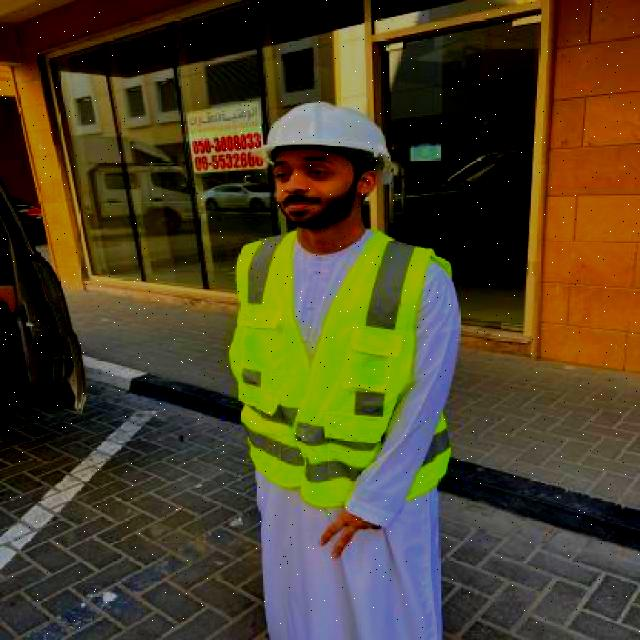Helmet: (248, 102, 396, 230)
Mask: (232, 236, 456, 502)
